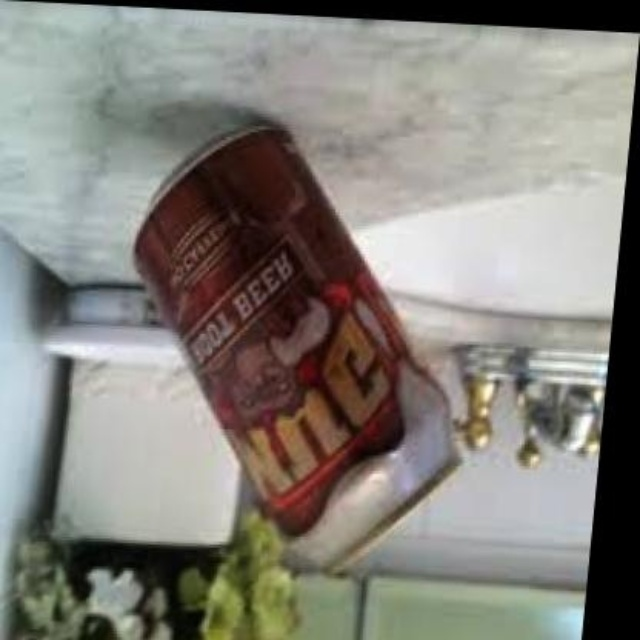trash: (135, 125, 457, 566)
